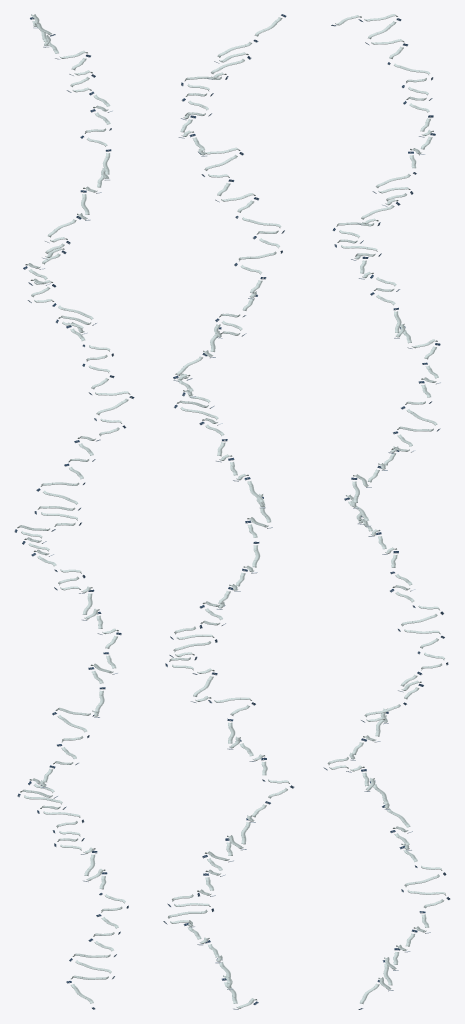
File: C-route-v027-07.glb
The picture shows the model from 3 angles, left to right: view 1: azimuth 30°, elevation 25°; view 2: azimuth 150°, elevation 25°; view 3: azimuth 330°, elevation 25°; orthographic projection. The views are drawn at different scales.
Size of the model in its own units: 0.4939 by 4.42 by 0.4384.
Materials: 5 (1 with a texture image).
